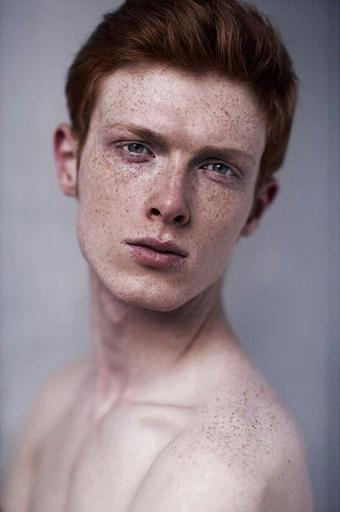left_eye: (198, 161, 243, 181)
left_lip_corner: (178, 248, 193, 264)
right_eye: (113, 140, 158, 163)
right_lip_corner: (120, 233, 138, 255)
